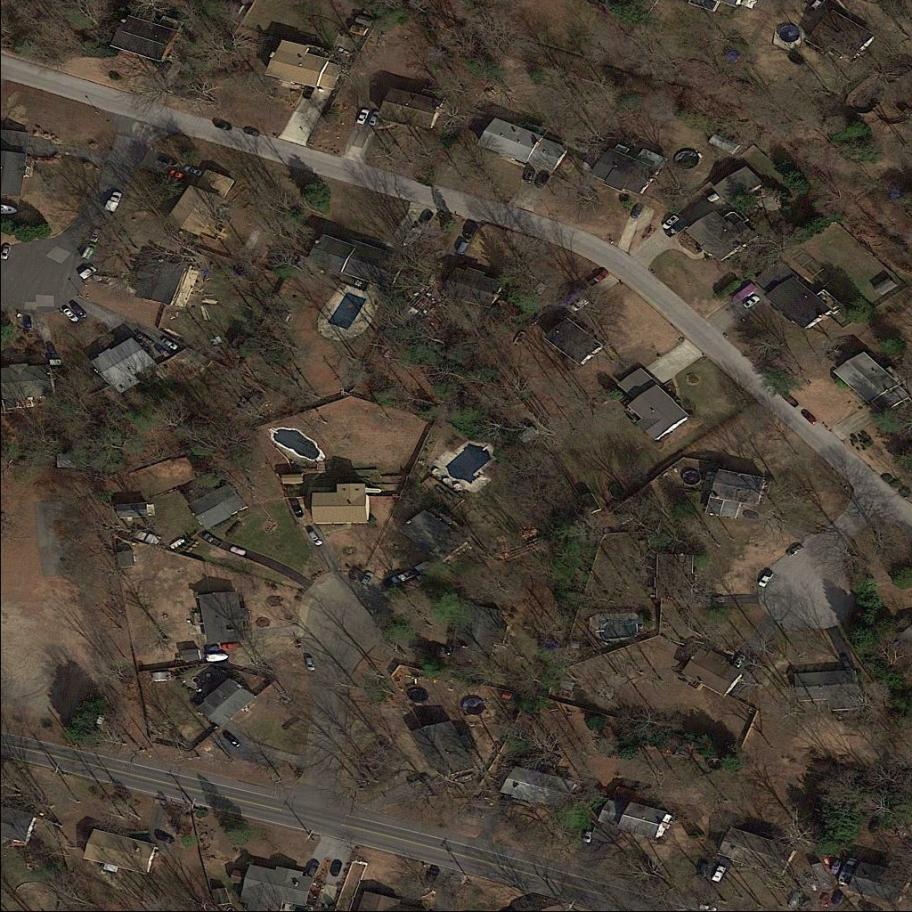ship: (400, 224, 424, 251), (207, 653, 228, 663)
small-vehicle: (729, 281, 758, 308), (391, 567, 418, 585), (841, 858, 859, 883), (779, 388, 799, 408), (569, 295, 590, 314), (757, 568, 775, 590), (202, 533, 223, 551), (800, 407, 818, 426), (419, 210, 436, 230), (786, 50, 806, 67), (105, 191, 121, 212), (289, 498, 305, 519), (301, 81, 317, 102), (839, 653, 854, 675), (79, 264, 98, 281), (307, 530, 324, 549), (786, 541, 806, 557), (157, 153, 178, 168), (350, 563, 364, 583), (662, 216, 679, 232), (360, 571, 375, 589), (155, 832, 175, 845), (696, 861, 710, 879), (72, 304, 87, 320), (743, 295, 759, 310), (869, 815, 881, 835), (712, 865, 726, 882), (631, 201, 644, 219), (356, 107, 369, 125), (82, 244, 96, 260), (464, 224, 478, 240), (162, 338, 179, 351), (538, 171, 550, 189), (215, 119, 233, 131), (427, 866, 439, 884), (64, 309, 78, 324), (790, 890, 802, 907), (330, 859, 342, 876), (593, 269, 607, 283), (831, 859, 843, 875), (369, 110, 380, 127), (308, 860, 319, 877), (231, 546, 247, 557), (184, 167, 203, 176), (457, 240, 469, 254), (819, 891, 831, 905), (48, 344, 59, 359), (1, 245, 11, 261), (169, 170, 185, 180), (228, 737, 241, 749), (707, 194, 721, 205), (524, 168, 534, 183), (202, 645, 220, 653), (243, 127, 260, 135), (834, 890, 843, 905), (91, 229, 101, 242), (735, 654, 745, 667), (23, 316, 32, 330), (305, 657, 314, 671), (224, 643, 239, 650), (584, 831, 592, 843), (50, 361, 61, 365)
